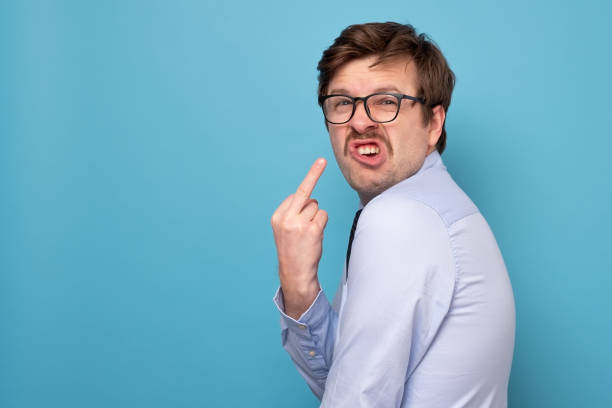insulting_gesture: (269, 156, 329, 282)
